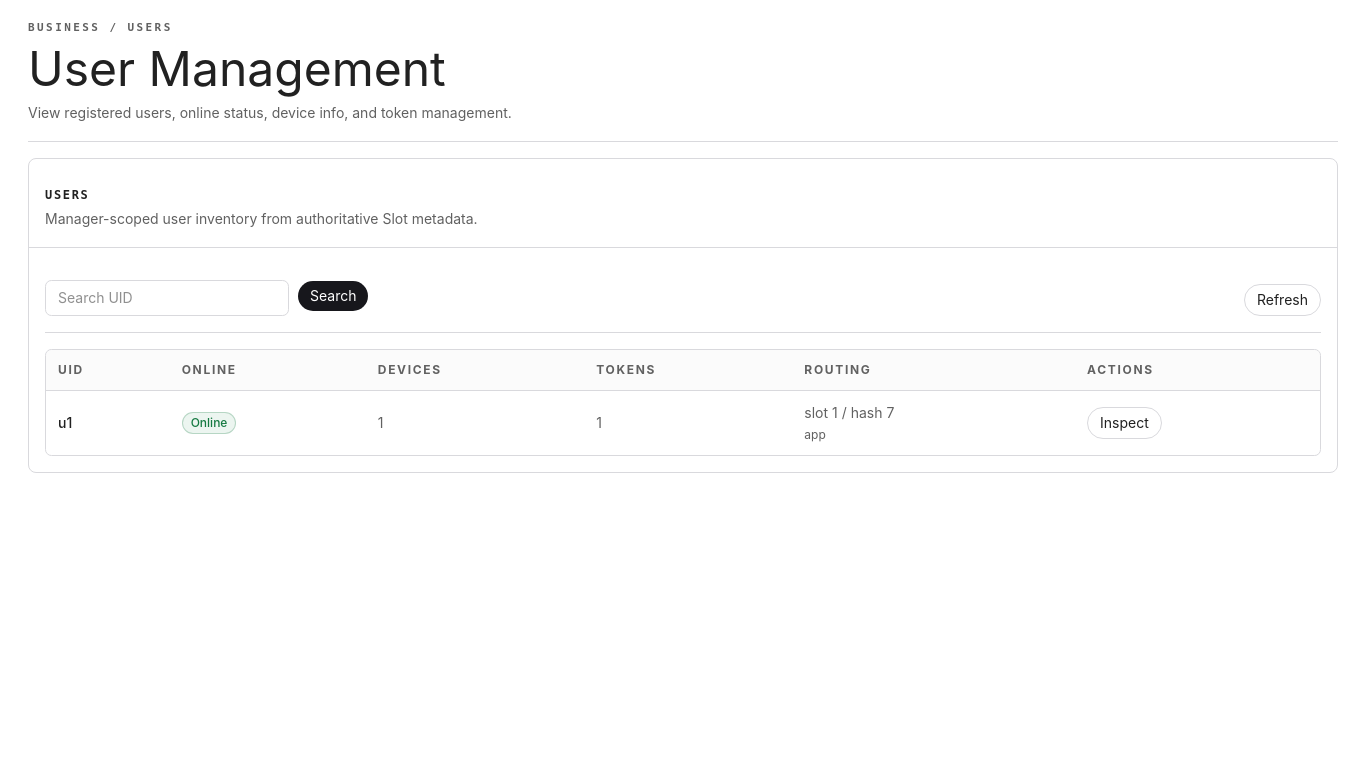
Test: opens detail and runs user actions
Step 1. Click the button with aria-label "Inspect user u1" → (1124, 422), box left=1087, top=406, right=1162, bottom=438
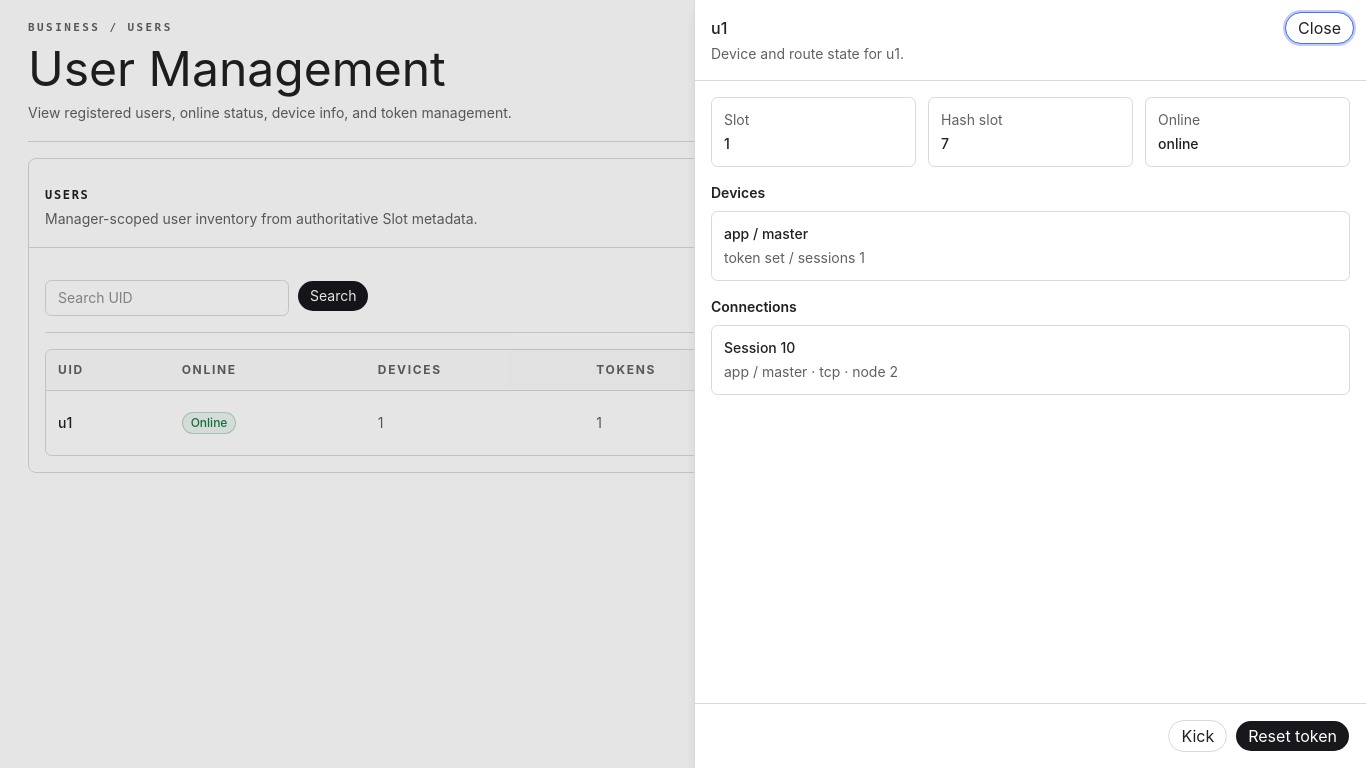
Now the text "Session 10" is shown, box left=724, top=339, right=795, bottom=356
Step 2. Click the button "Kick" → (1198, 736), box left=1168, top=720, right=1227, bottom=752
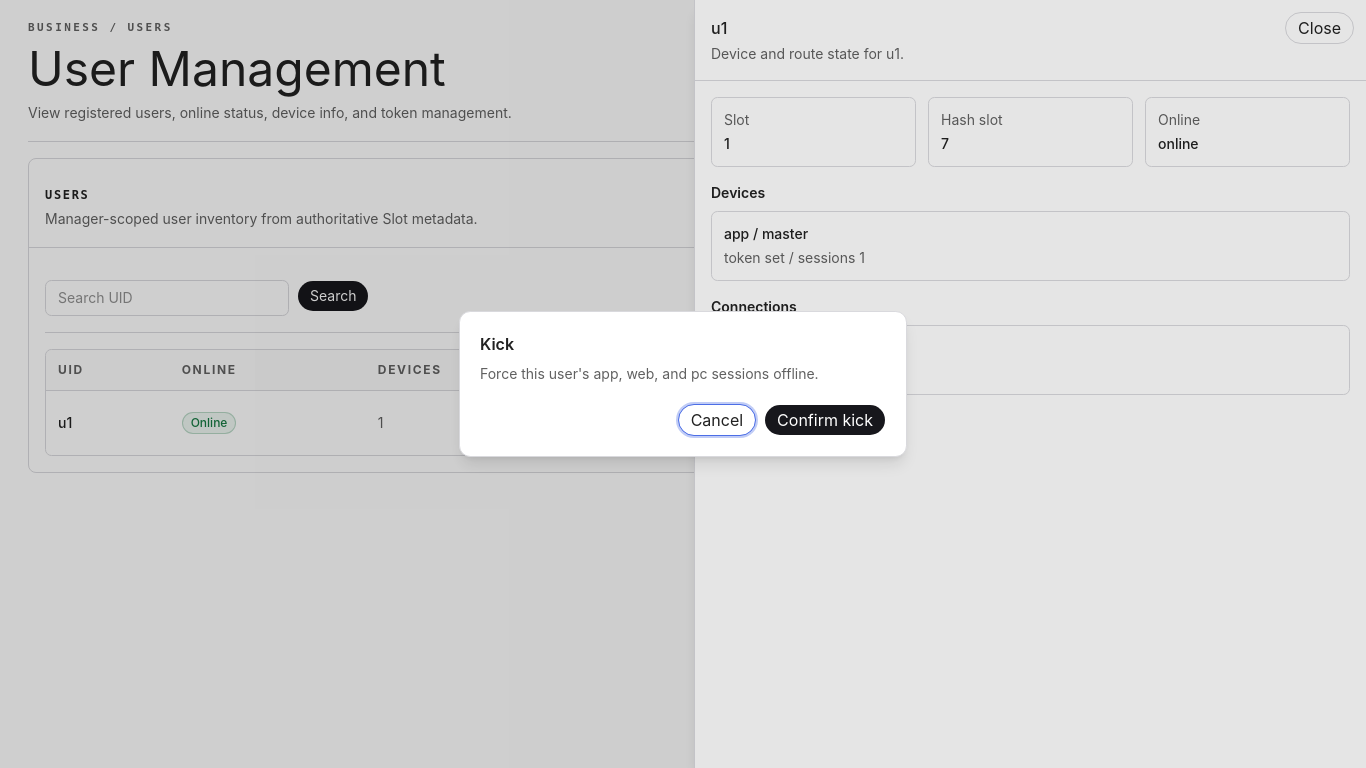
Step 3. Click the button "Confirm kick" → (825, 420), box left=764, top=404, right=886, bottom=436
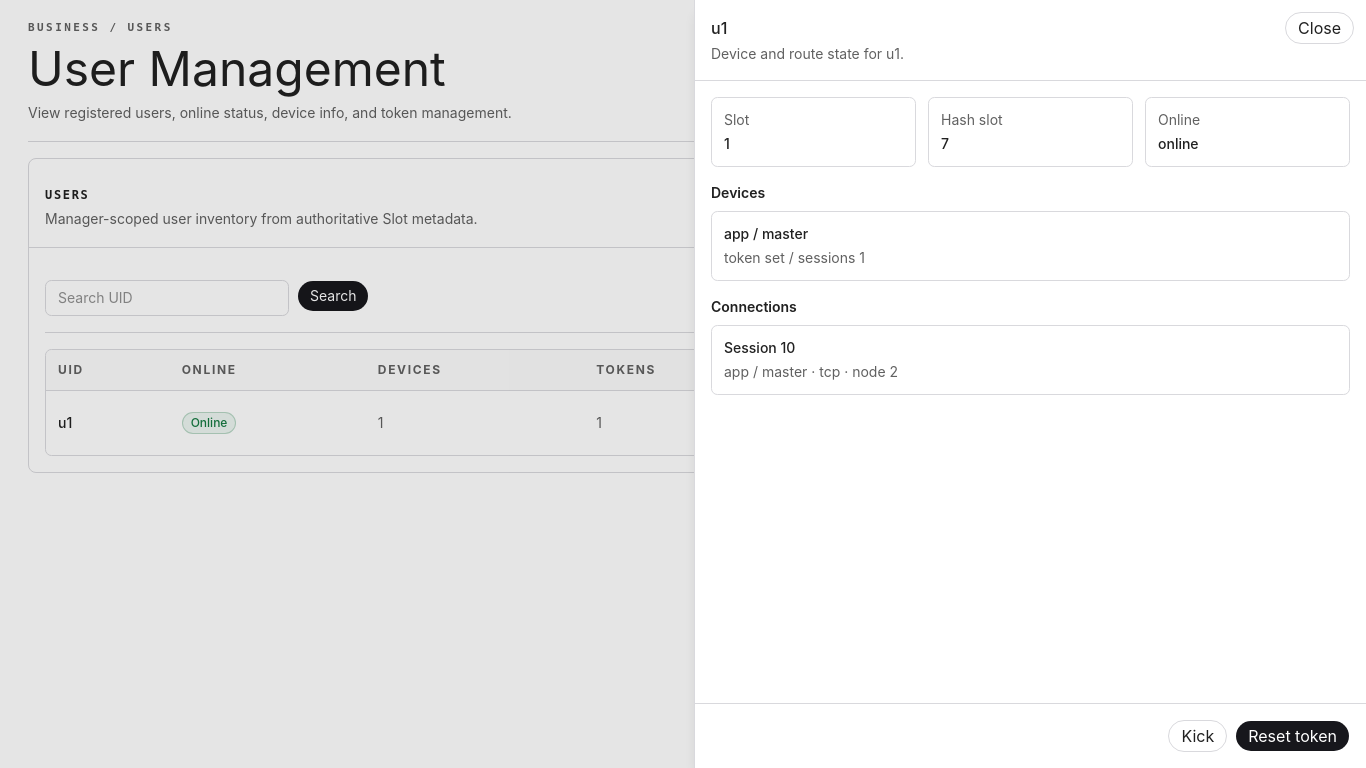
Step 4. Click the button "Reset token" → (1293, 736), box left=1235, top=720, right=1350, bottom=752
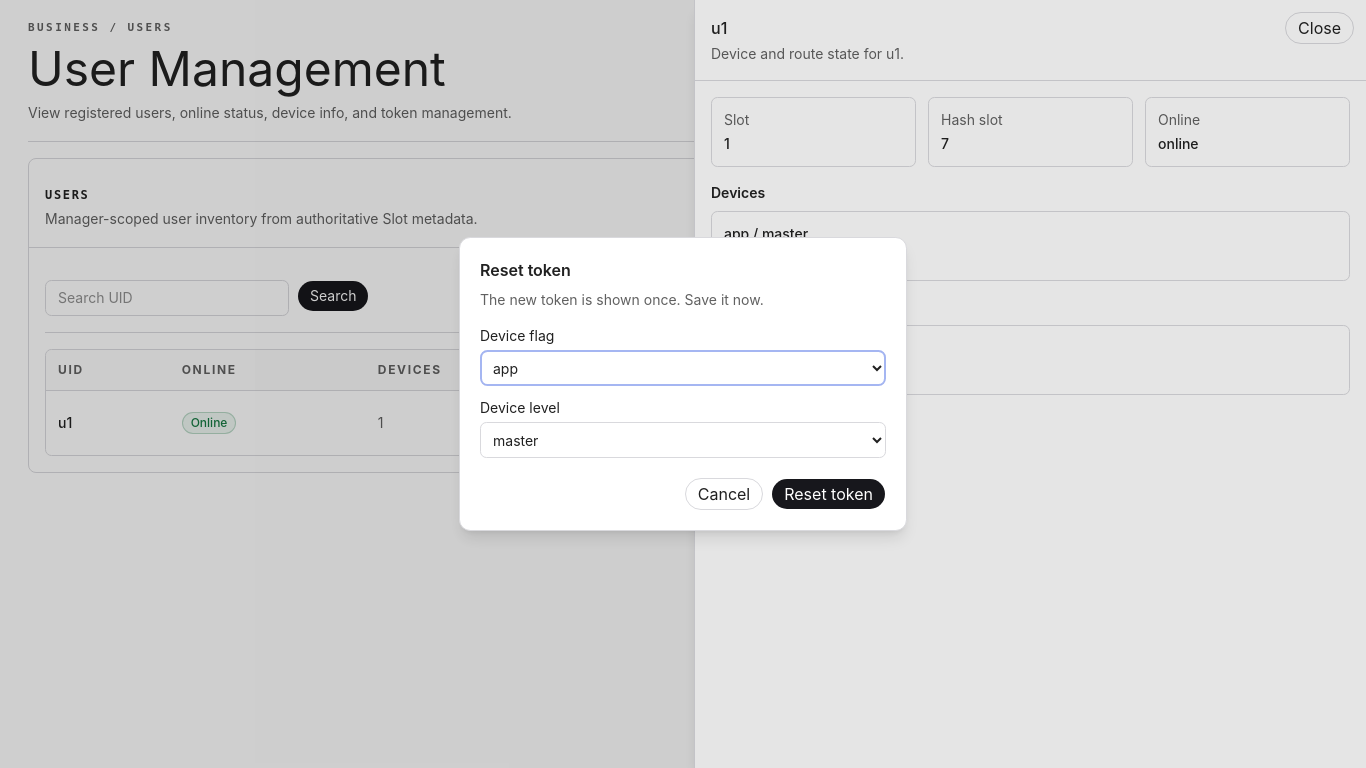
Step 5. Click the button "Reset token" → (829, 494), box left=771, top=478, right=886, bottom=510
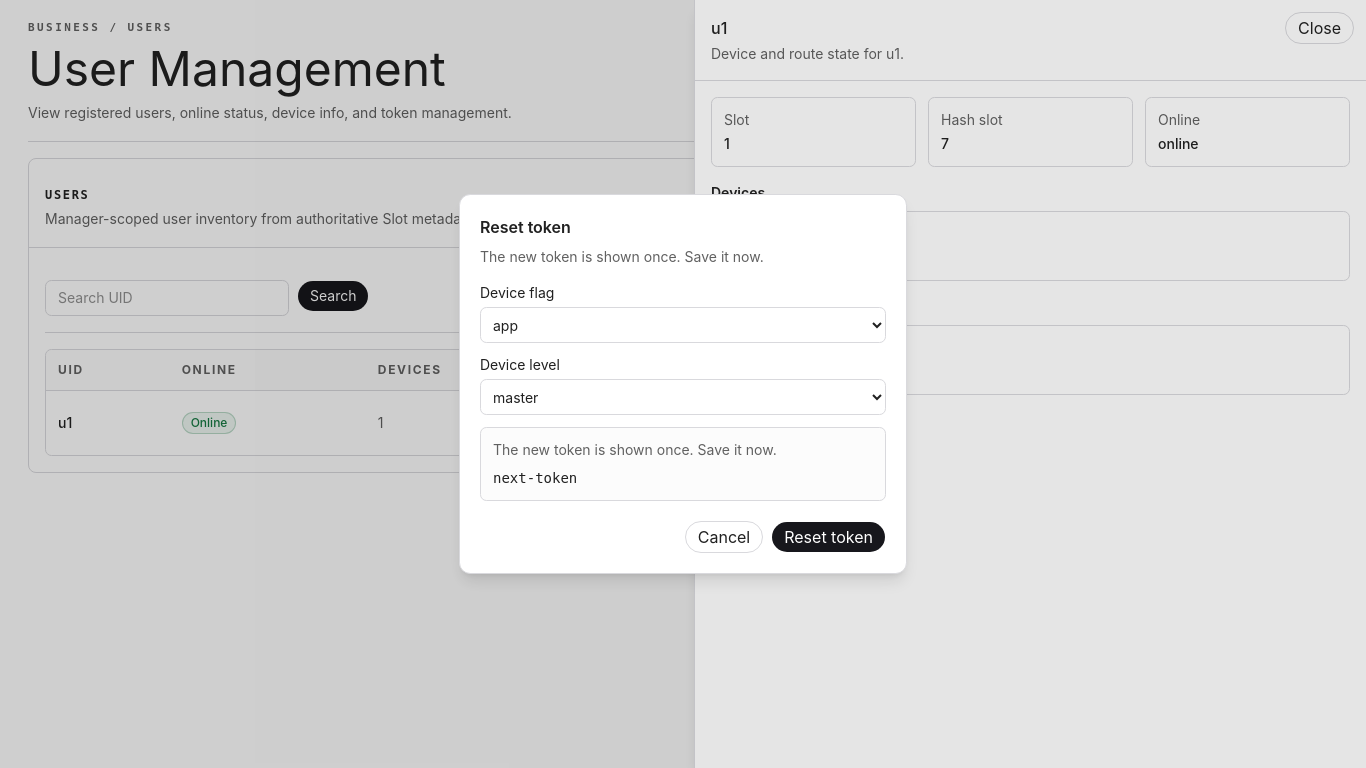
Now the text "next-token" is shown, box left=493, top=470, right=577, bottom=486
